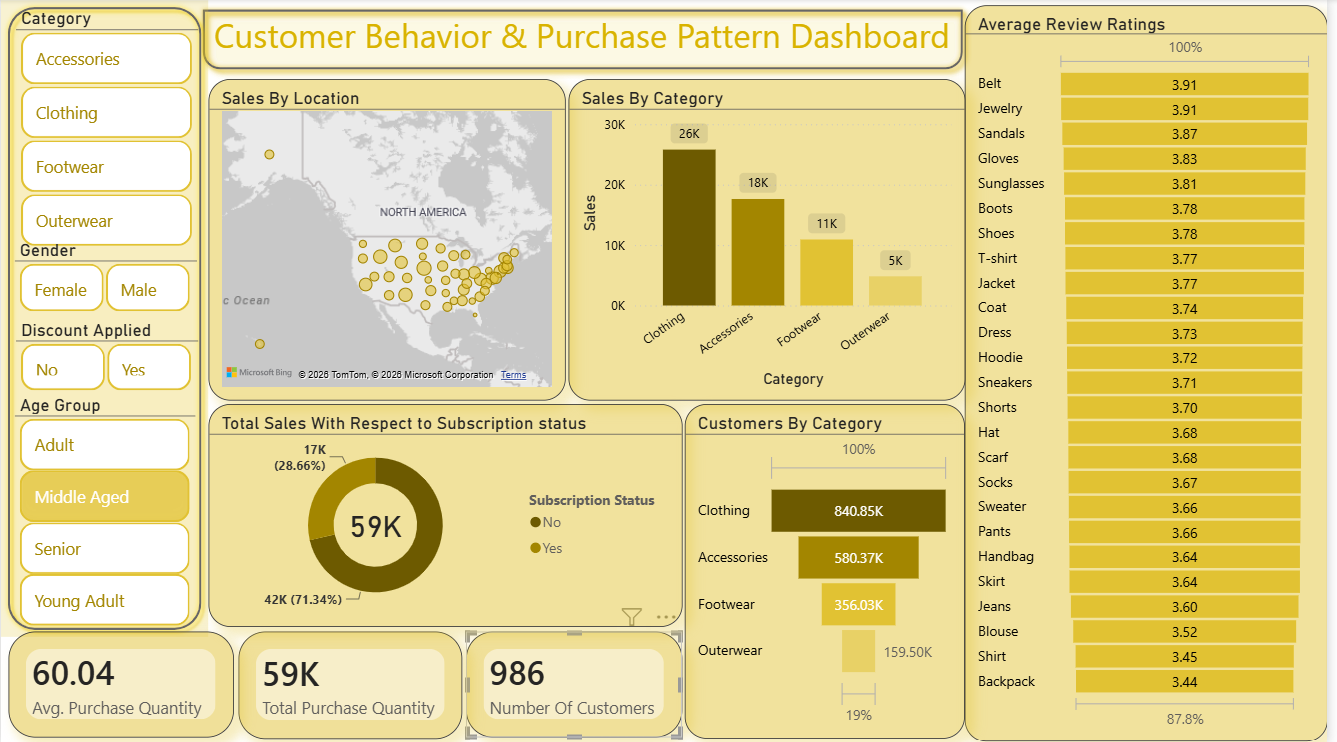

The page's visual inventory and layout, read from the dashboard file:
{"tool":"powerbi","page":{"name":"Page 1","canvas":[1280,720],"ordinal":0},"visuals":[{"type":"shape","box":[185.7,1.4,751.4,75.7],"z":0},{"type":"textbox","box":[190.6,8.4,740,68.6],"z":1000},{"type":"shape","box":[0,1.4,200,614.3],"z":2000},{"type":"advancedSlicerVisual","title":"Category","fields":{"Values":["customer.category"]},"box":[14.3,8.6,175.7,234.3],"z":3000},{"type":"advancedSlicerVisual","title":"Gender","fields":{"Values":["customer.gender"]},"box":[12.9,231.4,175.7,74.3],"z":4000},{"type":"advancedSlicerVisual","title":"Discount Applied","fields":{"Values":["customer.discount_applied"]},"box":[14.3,308.6,175.7,72.9],"z":5000},{"type":"advancedSlicerVisual","title":"Age Group","fields":{"Values":["customer.age_group"]},"box":[12.9,381.4,174.3,228.6],"z":6000},{"type":"map","title":"Sales By Location","fields":{"Category":["customer.location"],"Size":["Sum(customer.purchase_amount)"]},"box":[200,77.5,345,310],"z":7000},{"type":"cardVisual","fields":{"Data":["customer.Number Of Customers"]},"box":[448.8,610,208.8,107.5],"z":8000},{"type":"cardVisual","fields":{"Data":["Sum(customer.purchase_amount)"]},"box":[228.8,610,216.2,103.8],"z":9000},{"type":"cardVisual","fields":{"Data":["customer.Average Purchase Amount"]},"box":[7.5,610,217.5,102.5],"z":10000},{"type":"clusteredColumnChart","title":"Sales By Category","fields":{"Y":["Sum(customer.purchase_amount)"],"Category":["customer.category"]},"box":[547.1,77.1,382.9,310],"z":11000},{"type":"donutChart","title":"Total Sales With Respect to Subscription status","fields":{"Category":["customer.subscription_status"],"Y":["Sum(customer.purchase_amount)"]},"box":[200,391.2,457.5,215],"z":12000},{"type":"funnel","title":"Average Review Ratings","fields":{"Category":["customer.item_purchased"],"Y":["customer.Average Review Rating"]},"box":[930,5.7,350,711.4],"z":13000},{"type":"funnel","title":"Customers By Category","fields":{"Y":["Count(customer.customer_id)"],"Category":["customer.category"]},"box":[660,391.4,270,322.9],"z":14000}]}

Visuals, with their boxes in screenshot pixels (x1, y1, x2, y2), scaled from the page's 1280x720 canvas onto the 1337x742 screenshot:
shape: bbox=(194, 1, 979, 79)
textbox: bbox=(199, 9, 972, 79)
shape: bbox=(0, 1, 209, 635)
"Category" advancedSlicerVisual: bbox=(15, 9, 198, 250)
"Gender" advancedSlicerVisual: bbox=(13, 238, 197, 315)
"Discount Applied" advancedSlicerVisual: bbox=(15, 318, 198, 393)
"Age Group" advancedSlicerVisual: bbox=(13, 393, 196, 629)
"Sales By Location" map: bbox=(209, 80, 569, 399)
cardVisual - customer.Number Of Customers: bbox=(469, 629, 687, 739)
cardVisual - Sum(customer.purchase_amount): bbox=(239, 629, 465, 736)
cardVisual - customer.Average Purchase Amount: bbox=(8, 629, 235, 734)
"Sales By Category" clusteredColumnChart: bbox=(571, 79, 971, 399)
"Total Sales With Respect to Subscription status" donutChart: bbox=(209, 403, 687, 625)
"Average Review Ratings" funnel: bbox=(971, 6, 1336, 739)
"Customers By Category" funnel: bbox=(689, 403, 971, 736)
